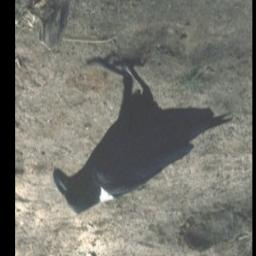Crow: (53, 53, 235, 217)
